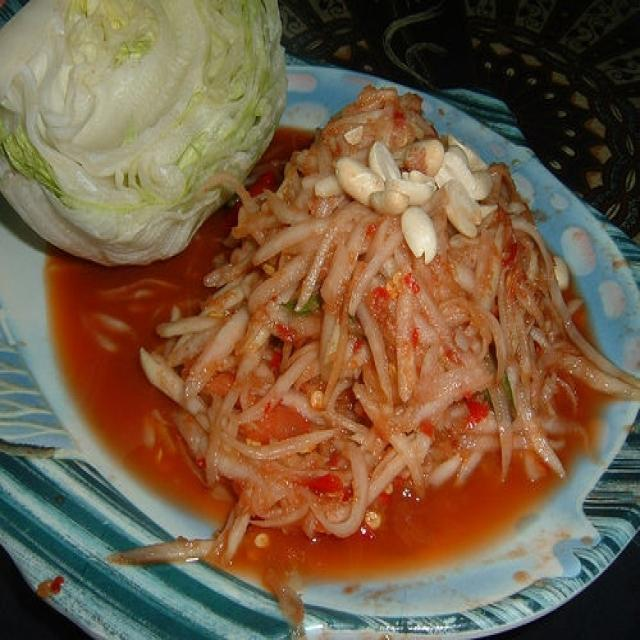蔬菜料理: (108, 53, 602, 556)
